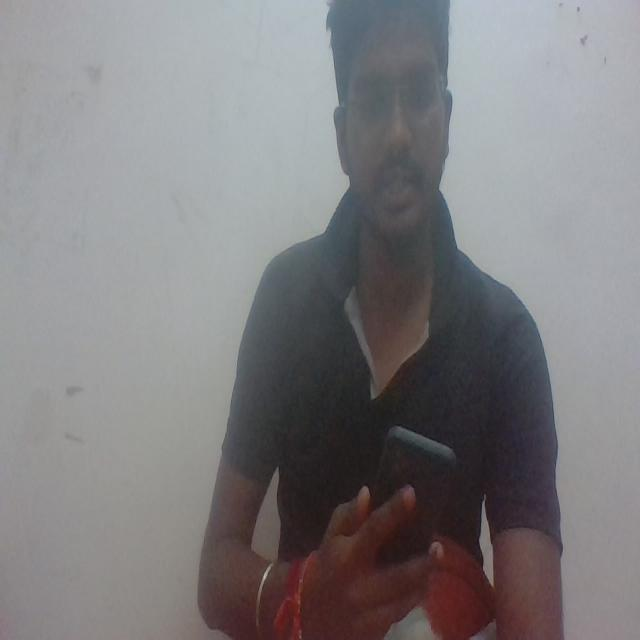Phone: (373, 421, 458, 564)
